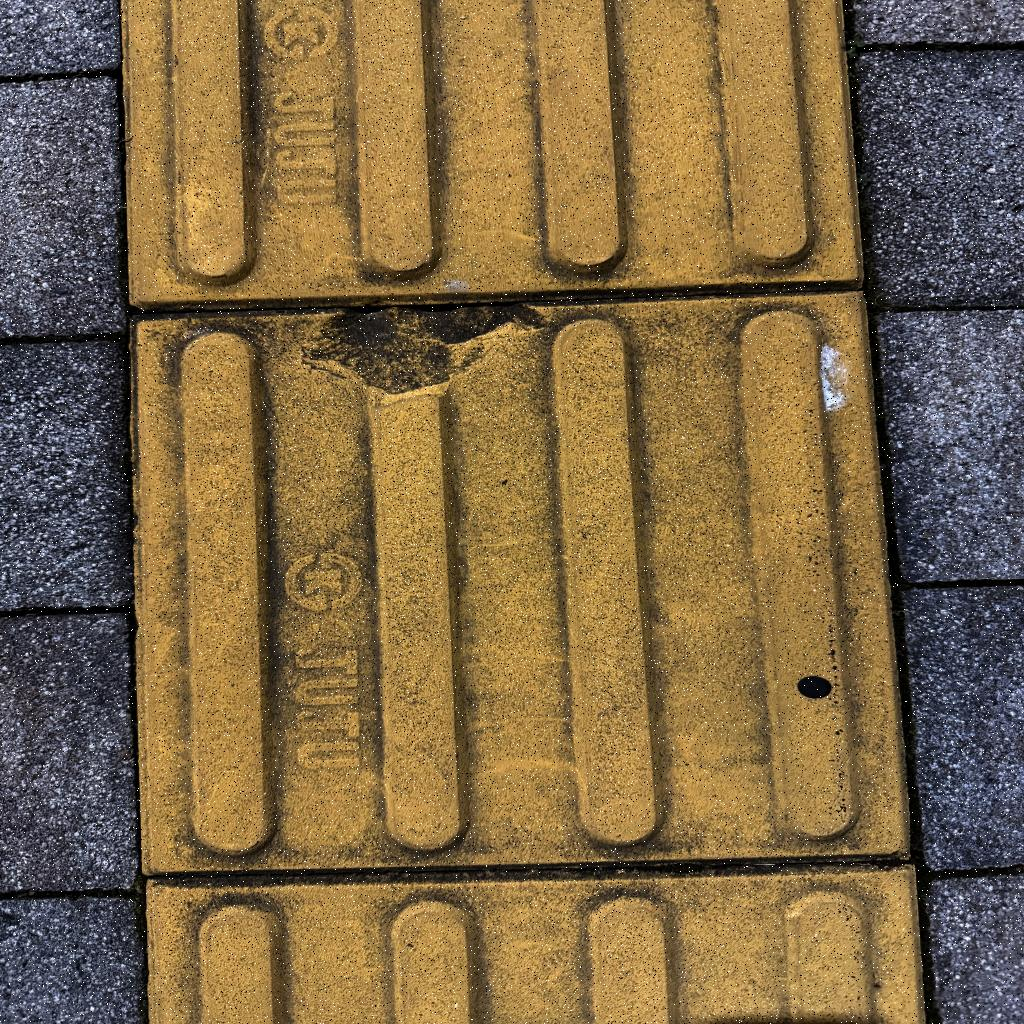Straight block broken: (137, 295, 906, 866)
